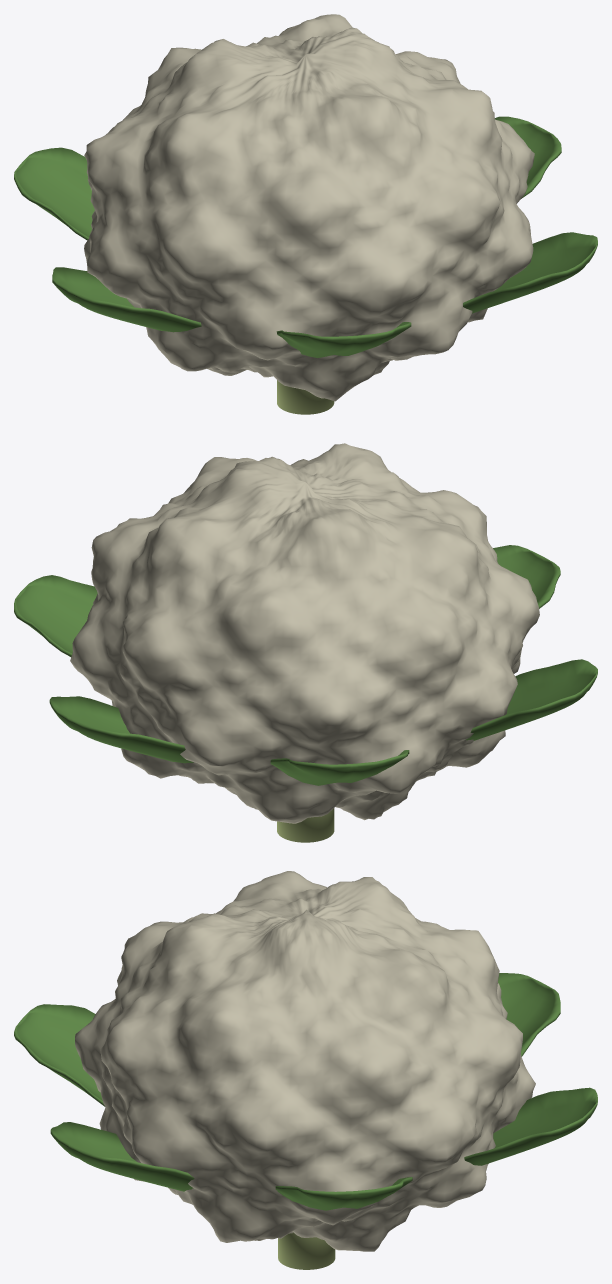
3 views of the same model, one above another, from view 1: azimuth 30°, elevation 25°; view 2: azimuth 150°, elevation 25°; view 3: azimuth 270°, elevation 25° (orthographic).
Parts seen in each view (by area): view 1: Continuous compact curd with irregular granular lobes, Cupping outer leaf 3, Cupping outer leaf 6, Cupping outer leaf 4, Cupping outer leaf 5, Cupping outer leaf 1, Cut central stalk; view 2: Continuous compact curd with irregular granular lobes, Cupping outer leaf 4, Cupping outer leaf 1, Cupping outer leaf 2, Cupping outer leaf 3, Cupping outer leaf 5, Cut central stalk; view 3: Continuous compact curd with irregular granular lobes, Cupping outer leaf 2, Cupping outer leaf 5, Cupping outer leaf 6, Cupping outer leaf 3, Cupping outer leaf 1, Cut central stalk.
Boxes of the visible parts, box(x1,y1,x2,y2) form: Continuous compact curd with irregular granular lobes: box(84, 14, 534, 401); Cupping outer leaf 3: box(14, 147, 94, 240); Cupping outer leaf 6: box(463, 232, 597, 313); Cupping outer leaf 4: box(52, 267, 201, 332); Cupping outer leaf 5: box(276, 322, 411, 358); Cupping outer leaf 1: box(495, 116, 561, 198); Cut central stalk: box(277, 380, 334, 414); Continuous compact curd with irregular granular lobes: box(70, 443, 539, 823); Cupping outer leaf 4: box(466, 659, 597, 740); Cupping outer leaf 1: box(14, 575, 97, 657); Cupping outer leaf 2: box(49, 696, 193, 763); Cupping outer leaf 3: box(270, 750, 409, 785); Cupping outer leaf 5: box(493, 545, 560, 608); Cut central stalk: box(277, 808, 334, 842); Continuous compact curd with irregular granular lobes: box(75, 871, 535, 1251); Cupping outer leaf 2: box(464, 1087, 597, 1165); Cupping outer leaf 5: box(14, 1004, 104, 1106); Cupping outer leaf 6: box(50, 1122, 194, 1191); Cupping outer leaf 3: box(498, 973, 560, 1056); Cupping outer leaf 1: box(275, 1177, 412, 1210); Cut central stalk: box(278, 1232, 335, 1269).
Size of the model in its own units: 0.2946 by 0.1912 by 0.2842.
